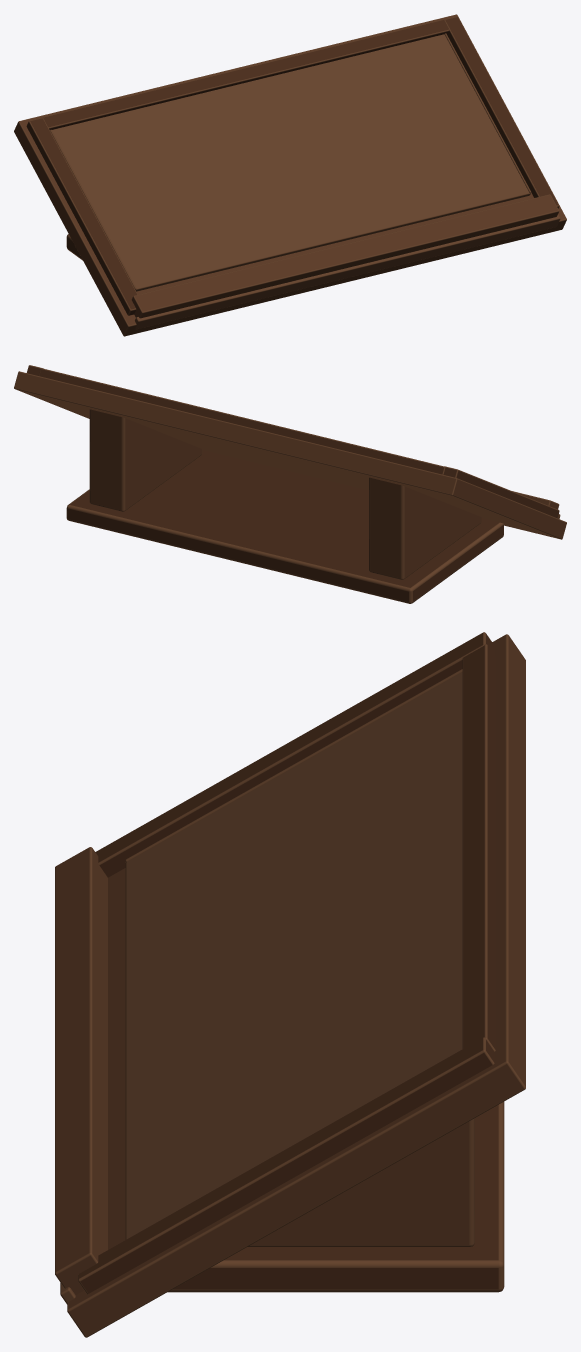
File: ReadingStand_v1.fbx
The picture shows the model from 3 angles, top to bottom: view 1: azimuth 30°, elevation 25°; view 2: azimuth 150°, elevation 25°; view 3: azimuth 270°, elevation 25°; orthographic projection. The views are drawn at different scales.
Visible parts, largest first — view 1: ReadingStand; view 2: ReadingStand; view 3: ReadingStand.
Boxes of the visible parts, left/top/right/bottom form: ReadingStand: left=14, top=14, right=566, bottom=336; ReadingStand: left=14, top=365, right=566, bottom=603; ReadingStand: left=55, top=632, right=525, bottom=1337.
Bounding box in the file's own units: 0.692 × 0.2144 × 0.3215.
